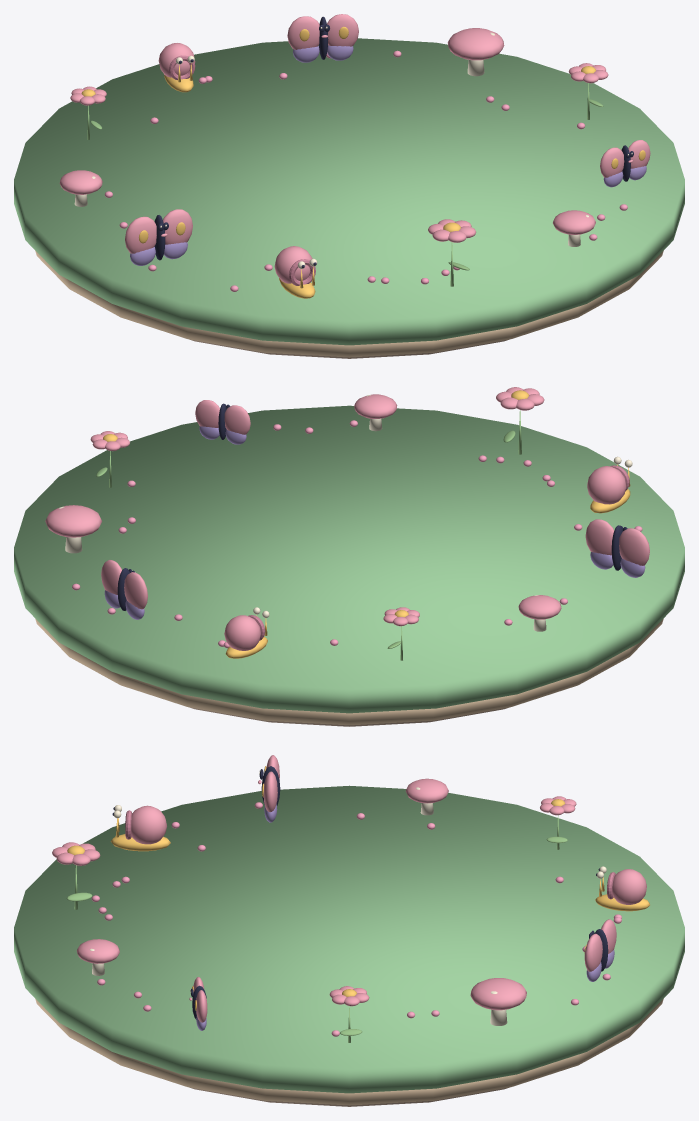
Rendered from world.glb.
3 renders of one model, top to bottom at view 1: azimuth 30°, elevation 25°; view 2: azimuth 150°, elevation 25°; view 3: azimuth 270°, elevation 25°, orthographic.
Parts seen in each view (by area): view 1: Cone, Cone.001, butterfly.002, butterfly.001, snail.002, mushroom.001, butterfly.003, snail.001, flower.003, mushroom.003, mushroom.002, flower.001 (+2 smaller); view 2: Cone, Cone.001, butterfly.002, butterfly.001, butterfly.003, snail.002, mushroom.001, snail.001, flower.003, mushroom.003, mushroom.002, flower.001 (+2 smaller); view 3: Cone, Cone.001, snail.002, snail.001, mushroom.001, butterfly.001, flower.003, butterfly.002, mushroom.003, mushroom.002, flower.001, flower.002 (+2 smaller).
Part boxes in pixels (x1,y1,x2,y2): Cone: [14, 38, 684, 345]; Cone.001: [35, 250, 663, 357]; butterfly.002: [125, 209, 192, 265]; butterfly.001: [287, 14, 358, 62]; snail.002: [274, 246, 317, 298]; mushroom.001: [447, 28, 504, 76]; butterfly.003: [600, 140, 650, 187]; snail.001: [158, 43, 195, 92]; flower.003: [428, 219, 476, 286]; mushroom.003: [553, 210, 595, 246]; mushroom.002: [59, 170, 102, 206]; flower.001: [568, 63, 608, 119]; Cone: [14, 405, 684, 713]; Cone.001: [35, 619, 663, 725]; butterfly.002: [585, 519, 649, 577]; butterfly.001: [101, 560, 147, 619]; butterfly.003: [195, 400, 250, 444]; snail.002: [587, 456, 632, 513]; mushroom.001: [45, 505, 101, 553]; snail.001: [224, 607, 269, 658]; flower.003: [496, 387, 544, 454]; mushroom.003: [354, 394, 397, 431]; mushroom.002: [518, 595, 561, 631]; flower.001: [90, 431, 130, 487]; Cone: [14, 785, 684, 1093]; Cone.001: [35, 998, 663, 1105]; snail.002: [110, 805, 170, 851]; snail.001: [595, 866, 649, 911]; mushroom.001: [470, 978, 526, 1025]; butterfly.001: [584, 919, 616, 981]; flower.003: [52, 842, 100, 909]; butterfly.002: [258, 755, 280, 822]; mushroom.003: [76, 939, 119, 975]; mushroom.002: [405, 778, 448, 815]; flower.001: [329, 986, 369, 1042]; flower.002: [540, 796, 576, 849].
Size of the model in its own units: 9.6 by 1.78 by 9.6.
